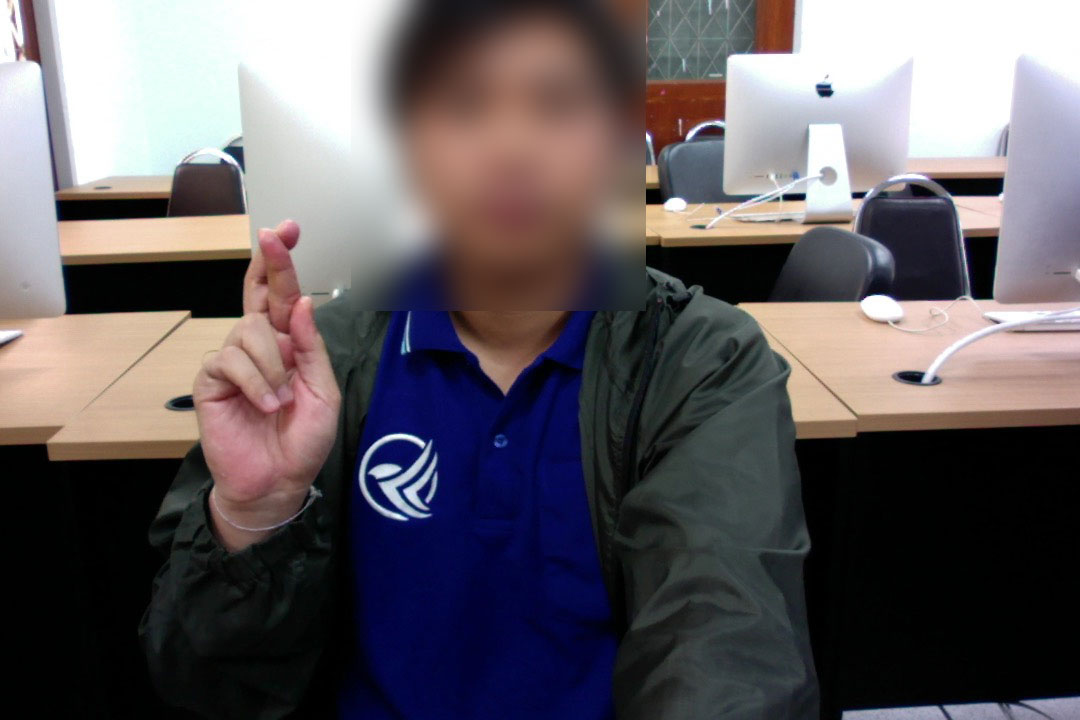rao: (191, 217, 349, 525)
